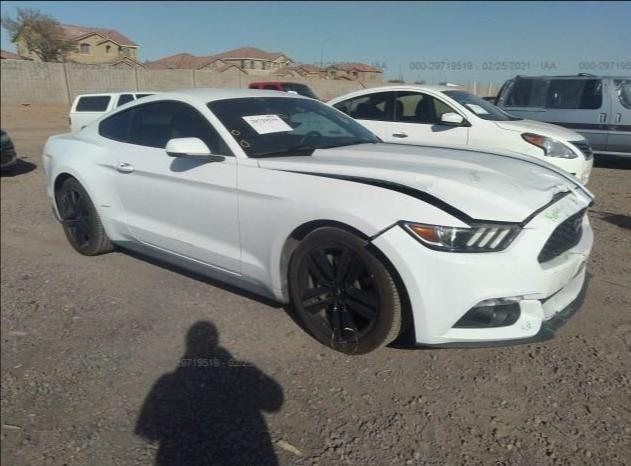Broken part: (280, 168, 572, 231), (368, 219, 399, 243)
Dent: (533, 263, 587, 320), (543, 274, 585, 319), (540, 197, 587, 225), (535, 173, 570, 199), (551, 185, 569, 197)
Flaking: (317, 172, 472, 217), (559, 247, 591, 289), (516, 302, 540, 336), (414, 174, 441, 198), (544, 206, 562, 224), (517, 289, 550, 296), (563, 251, 582, 260), (518, 321, 532, 333), (469, 170, 482, 181), (460, 208, 472, 218), (510, 182, 521, 189), (537, 201, 546, 207), (569, 199, 577, 205), (527, 209, 534, 213), (566, 214, 570, 217)
